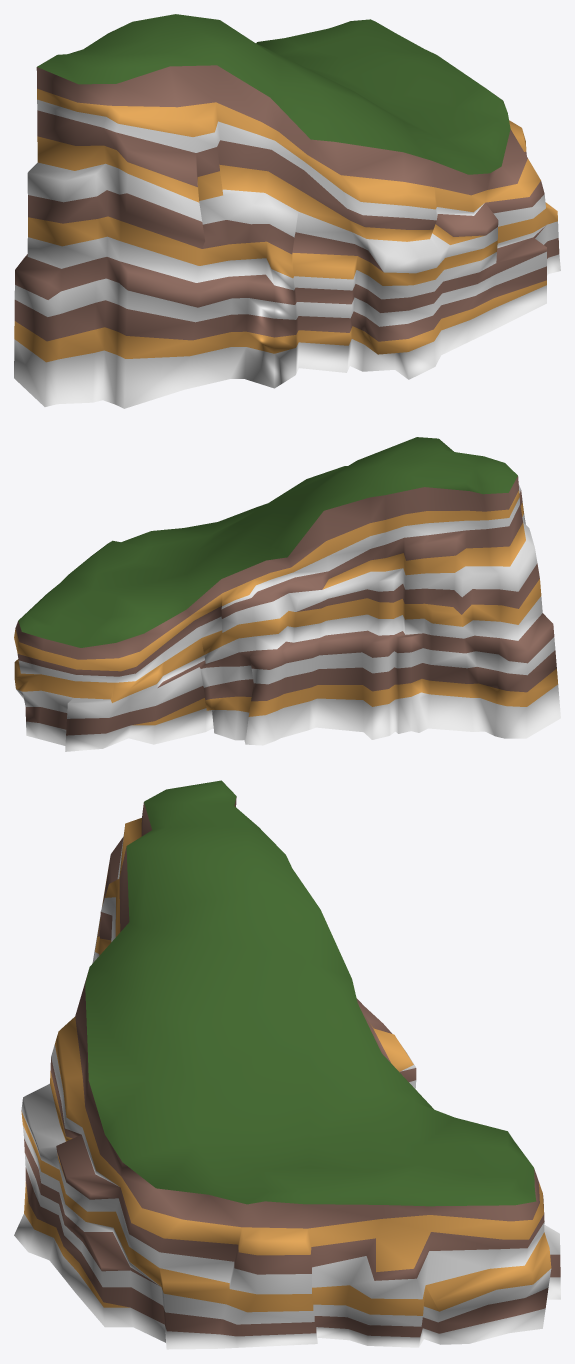
The model's file is IslandLighthouse_SmallSediments.fbx.
3 renders of one model, top to bottom at view 1: azimuth 30°, elevation 25°; view 2: azimuth 150°, elevation 25°; view 3: azimuth 270°, elevation 25°, orthographic. The views are drawn at different scales.
Visible parts, largest first — view 1: IslandLighthouse_Cliffside, IslandLighthouse_Grass; view 2: IslandLighthouse_Cliffside, IslandLighthouse_Grass; view 3: IslandLighthouse_Grass, IslandLighthouse_Cliffside.
Boxes of the visible parts, <box> form: IslandLighthouse_Cliffside: <box>14,65,560,408</box>; IslandLighthouse_Grass: <box>37,14,510,174</box>; IslandLighthouse_Cliffside: <box>14,476,560,751</box>; IslandLighthouse_Grass: <box>18,437,517,647</box>; IslandLighthouse_Grass: <box>85,780,536,1206</box>; IslandLighthouse_Cliffside: <box>14,797,560,1349</box>.
Size of the model in its own units: 115 by 63.86 by 97.38.
